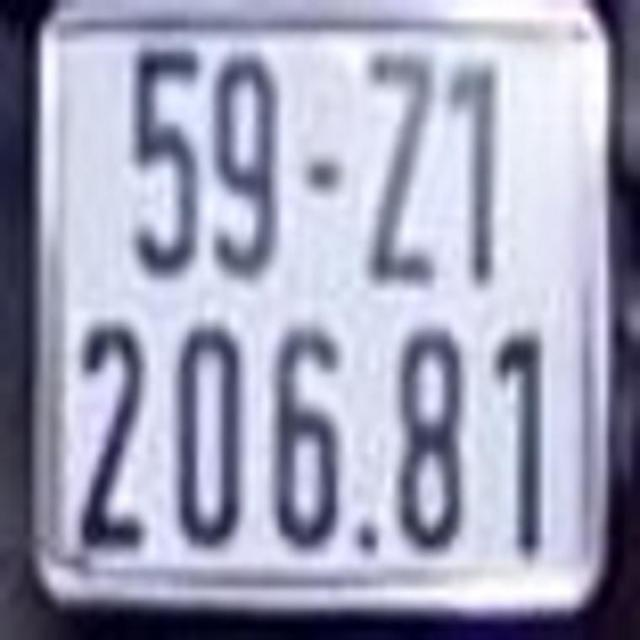0: (174, 321, 243, 553)
1: (449, 54, 498, 286), (498, 330, 545, 559)
2: (82, 321, 148, 545)
5: (132, 45, 200, 276)
6: (274, 324, 340, 551)
8: (396, 324, 466, 551)
9: (213, 50, 278, 281)
Z: (369, 50, 442, 289)
